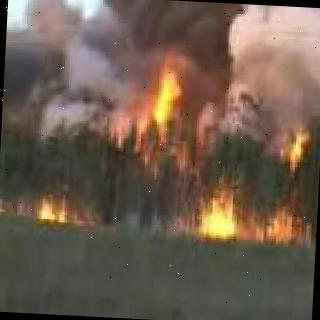fire: (277, 116, 313, 242), (189, 173, 241, 243), (154, 56, 190, 142), (32, 198, 75, 220)
